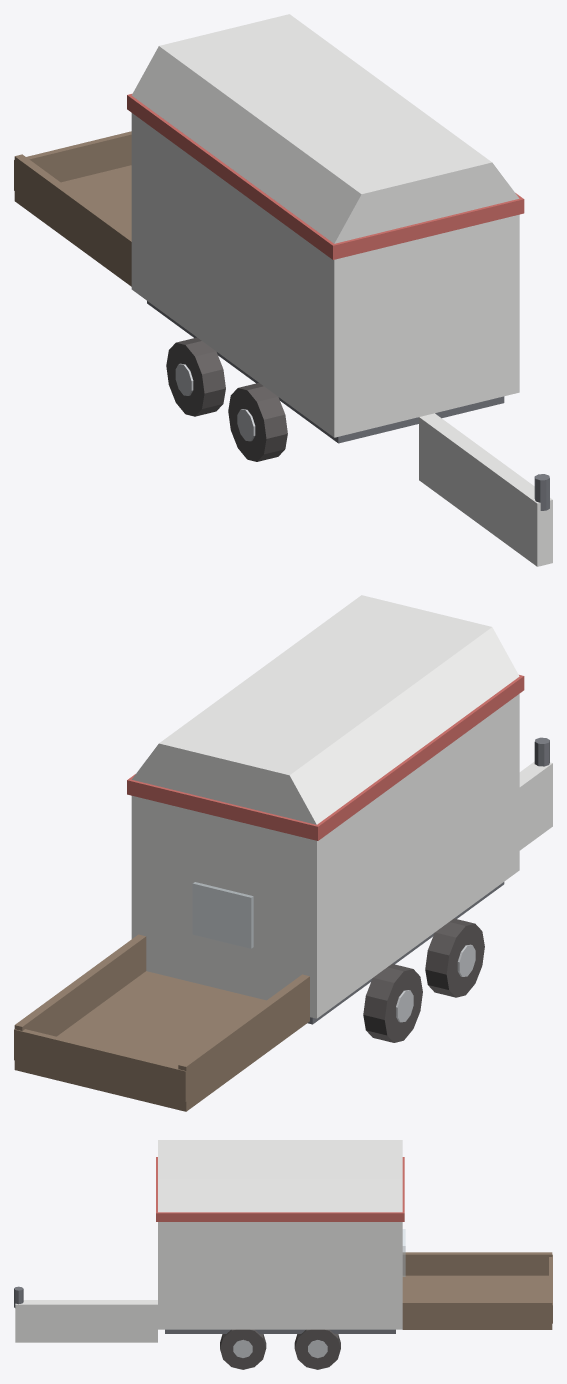
The model's file is horse-trailer.glb.
3 views of the same model, one above another, from view 1: azimuth 30°, elevation 25°; view 2: azimuth 150°, elevation 25°; view 3: azimuth 270°, elevation 25° (orthographic). The views are drawn at different scales.
Visible parts, largest first — view 1: horse-trailer, ramp; view 2: horse-trailer, ramp; view 3: horse-trailer, ramp.
Boxes of the visible parts, x1,y1,x2,y2 form: horse-trailer: [127, 14, 552, 566]; ramp: [14, 131, 131, 286]; horse-trailer: [127, 595, 552, 1042]; ramp: [14, 934, 309, 1111]; horse-trailer: [14, 1140, 405, 1369]; ramp: [402, 1252, 552, 1329].
Size of the model in its own units: 2.12 by 3 by 7.93.
